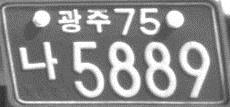5: (71, 39, 104, 99), (139, 6, 161, 36)
7: (111, 6, 137, 37)
8: (107, 40, 142, 97), (144, 40, 177, 98)
9: (179, 41, 211, 99)
광주_O: (57, 5, 111, 33)
나: (18, 39, 59, 82)
